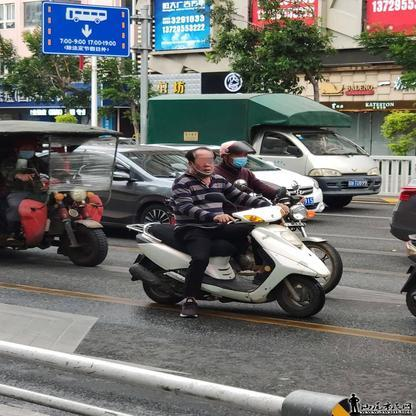target: (122, 147, 325, 323)
